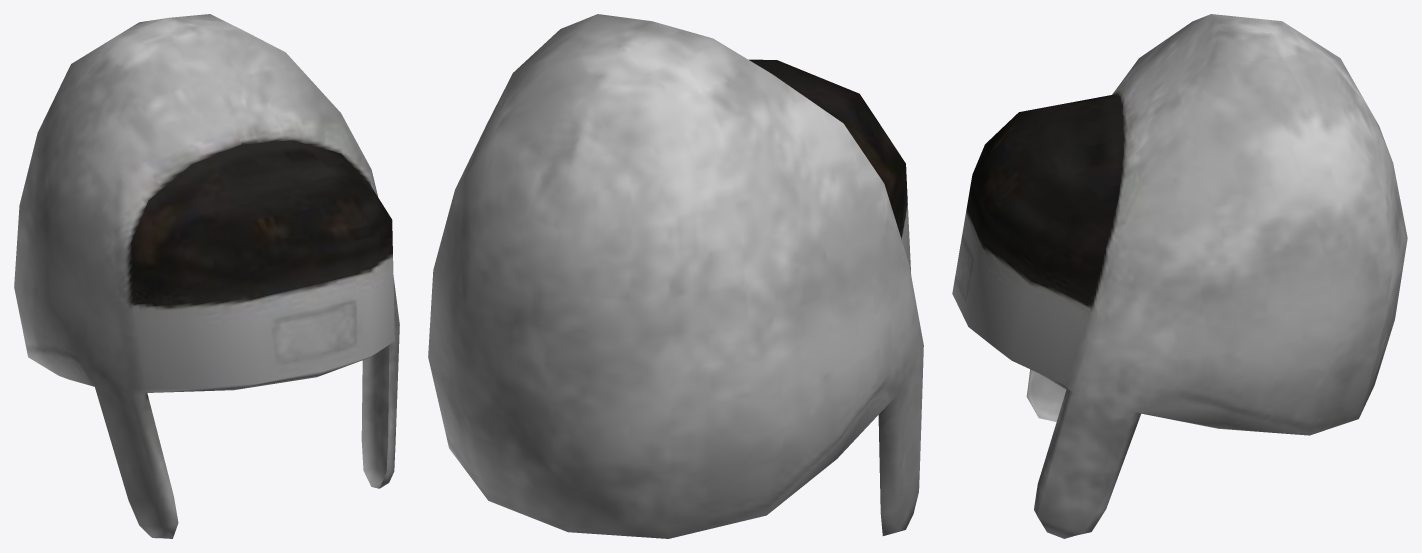
The model's file is helmet-base.glb.
3 views of the same model, side by side, from view 1: azimuth 30°, elevation 25°; view 2: azimuth 150°, elevation 25°; view 3: azimuth 270°, elevation 25° (orthographic). The views are drawn at different scales.
Bounding box in the file's own units: 0.2199 × 0.2979 × 0.2718.
Materials: 1 (1 with a texture image).
